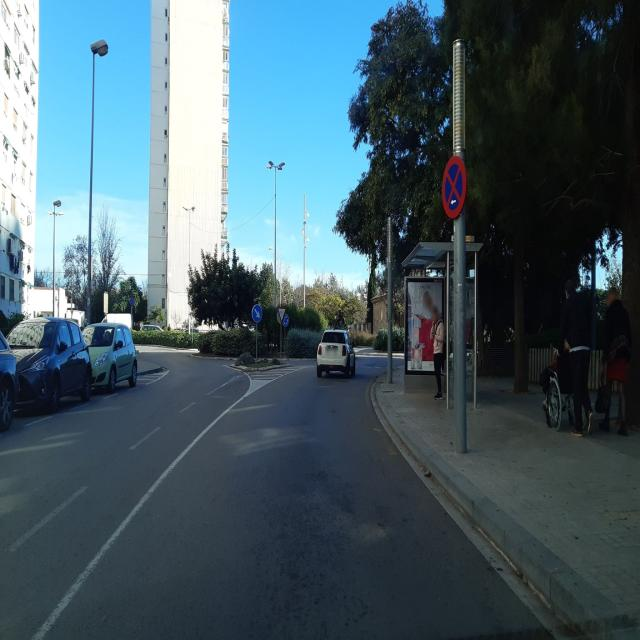forb_stopping: (129, 297, 135, 307)
forb_waiting: (441, 152, 467, 221)
